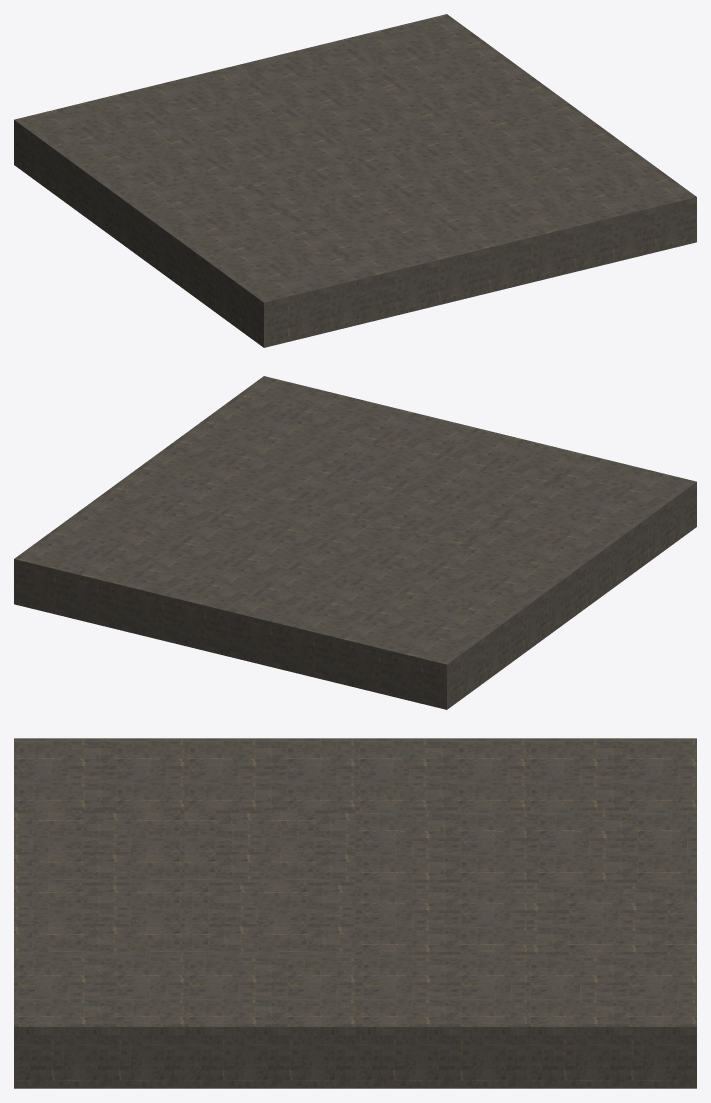
File: OutdoorCeiling.fbx
3 renders of one model, top to bottom at view 1: azimuth 30°, elevation 25°; view 2: azimuth 150°, elevation 25°; view 3: azimuth 270°, elevation 25°, orthographic. The views are drawn at different scales.
Parts seen in each view (by area): view 1: Ceiling10x10; view 2: Ceiling10x10; view 3: Ceiling10x10.
Part boxes in pixels (x1,y1,x2,y2): Ceiling10x10: (14, 14, 696, 347); Ceiling10x10: (14, 376, 696, 709); Ceiling10x10: (14, 738, 696, 1088).
Bounding box in the file's own units: 1000 × 100 × 1000.
1 material, 1 textured.
